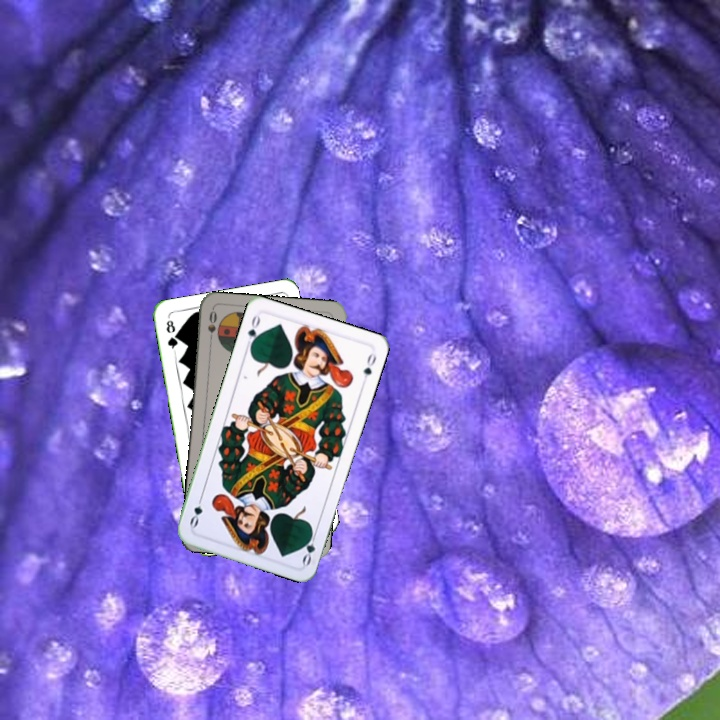G8: (162, 316, 180, 354)
GO: (298, 526, 319, 568), (244, 311, 263, 351)
SO: (203, 307, 220, 347)
